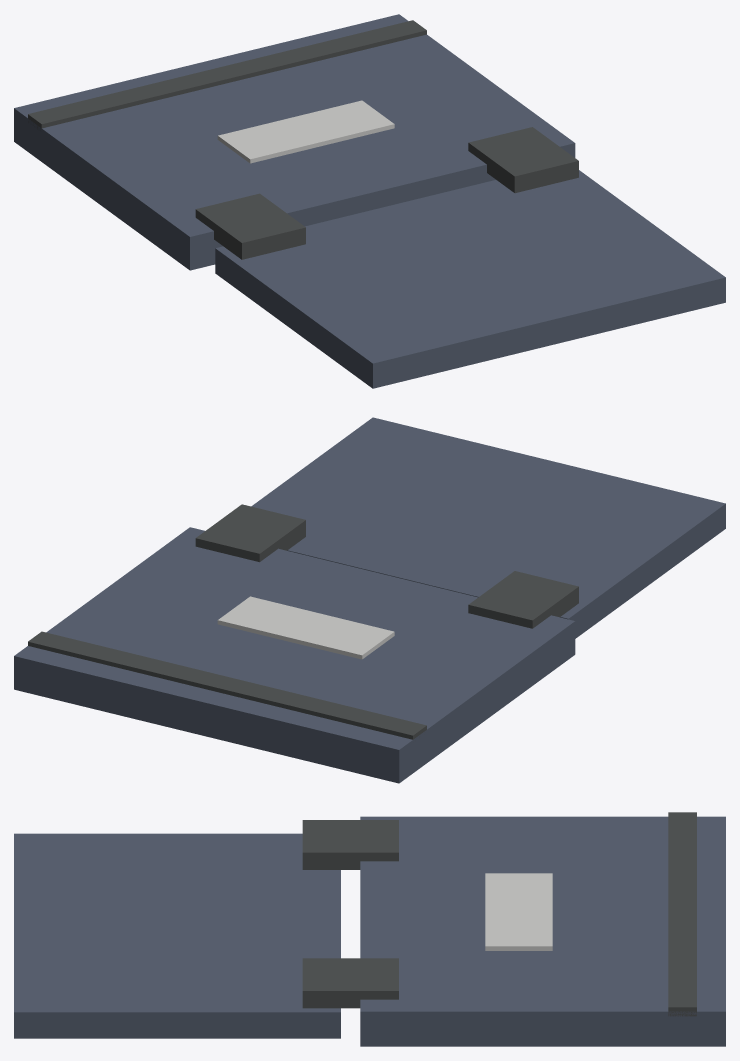
Rendered from vest_light.glb.
The picture shows the model from 3 angles, top to bottom: view 1: azimuth 30°, elevation 25°; view 2: azimuth 150°, elevation 25°; view 3: azimuth 270°, elevation 25°; orthographic projection. The views are drawn at different scales.
Visible parts, largest first — view 1: vest_light; view 2: vest_light; view 3: vest_light.
Part boxes in pixels (x1,y1,x2,y2): vest_light: [14, 14, 725, 388]; vest_light: [14, 417, 725, 783]; vest_light: [14, 812, 725, 1046].
Bounding box in the file's own units: 0.48 × 0.05 × 0.74.
